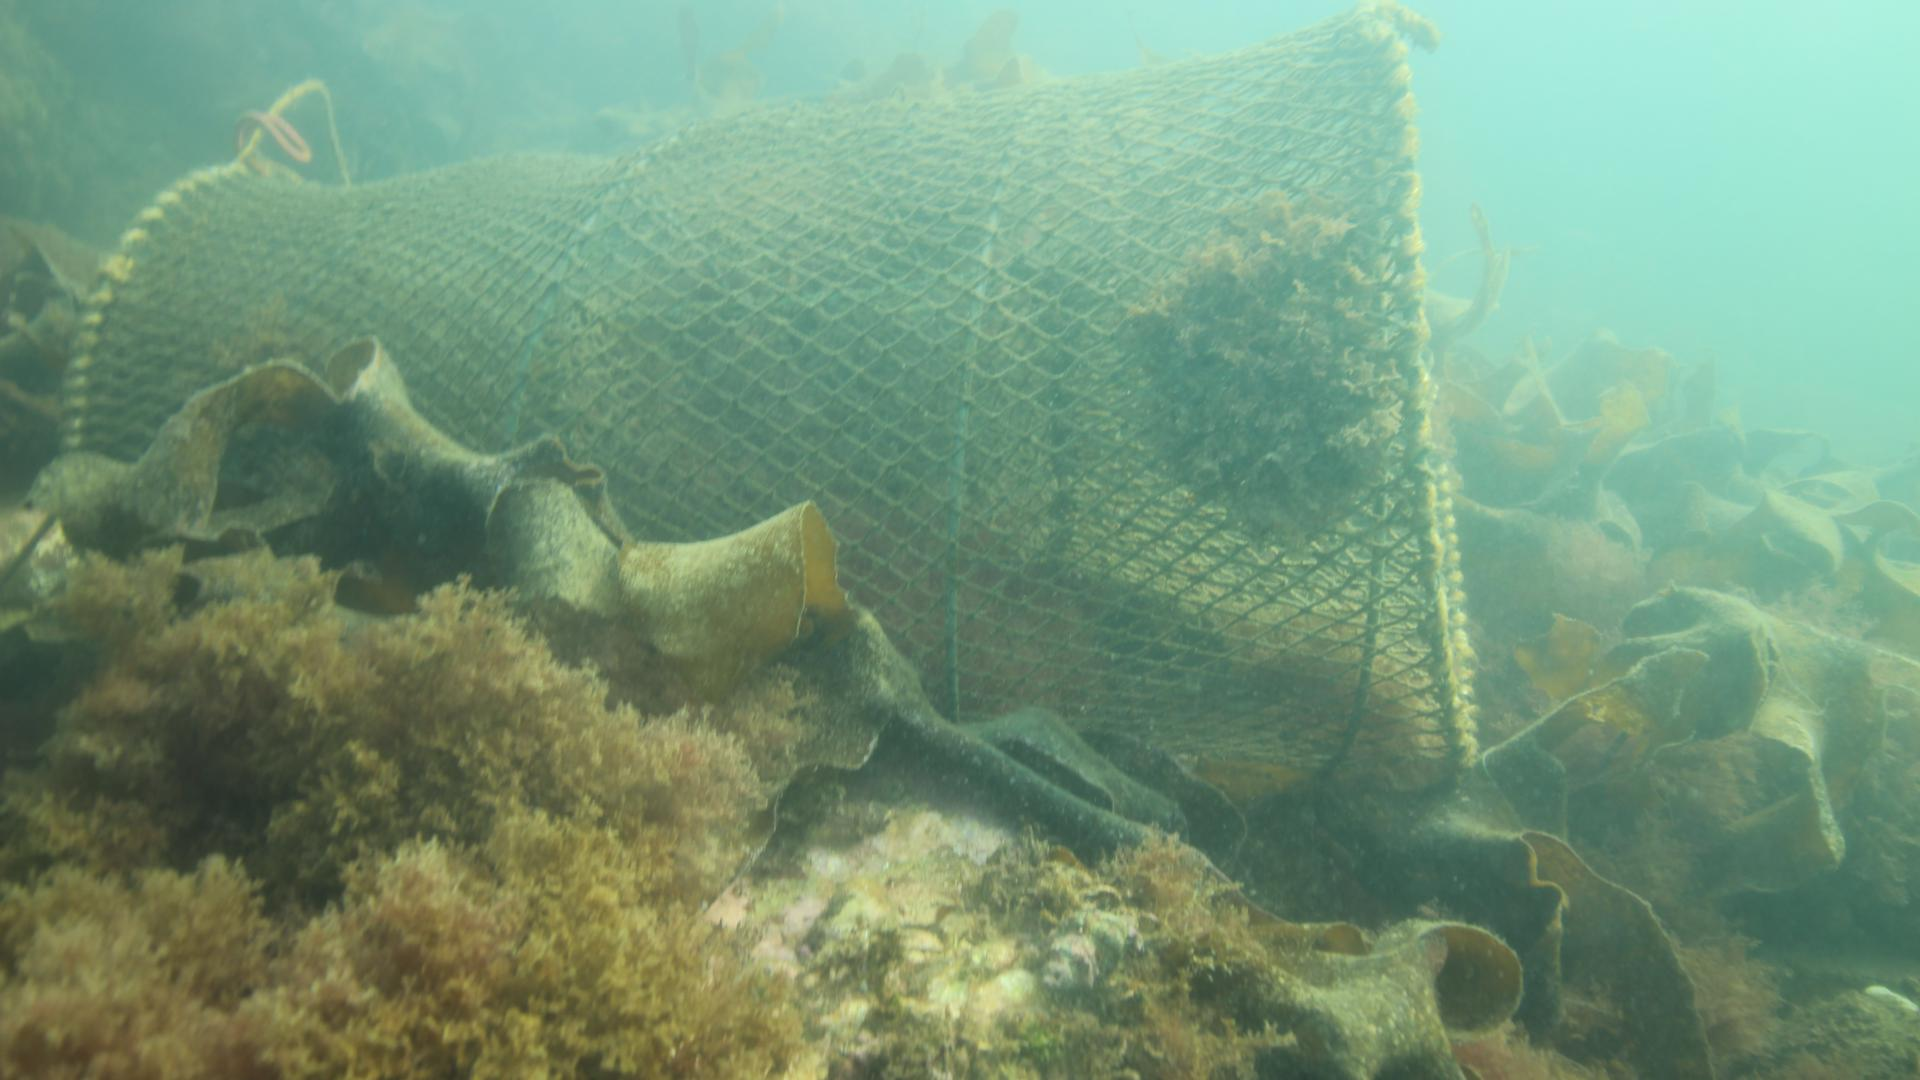rope: (225, 65, 364, 185)
spring fish trap: (58, 0, 1480, 771)
